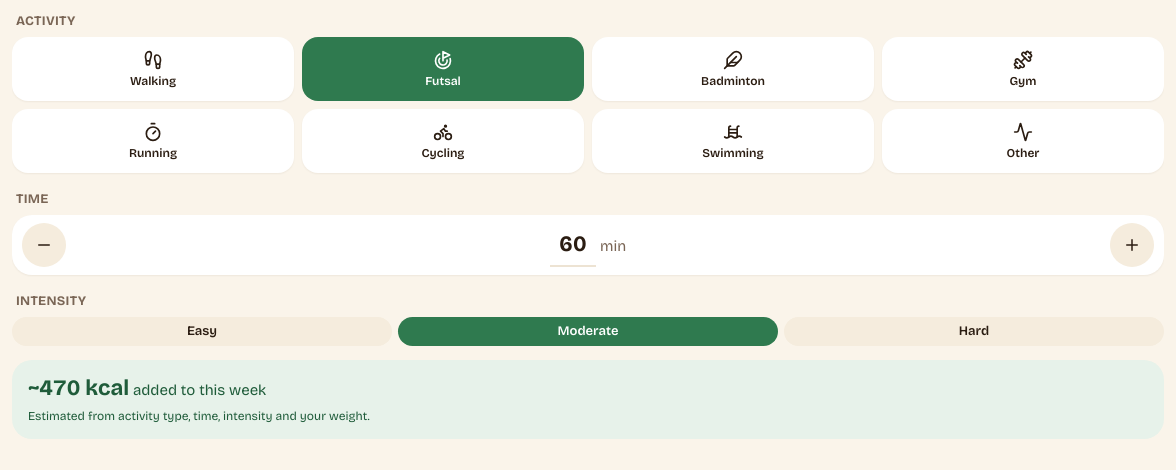
Test case: WorkoutForm (C51) › shows the time message after leaving the field, not while typing
The image size is (1176, 470).
Replace the text in the field named "Time in minutes" with "2" at (573, 245), box x1=550 y1=223 x2=596 y2=267
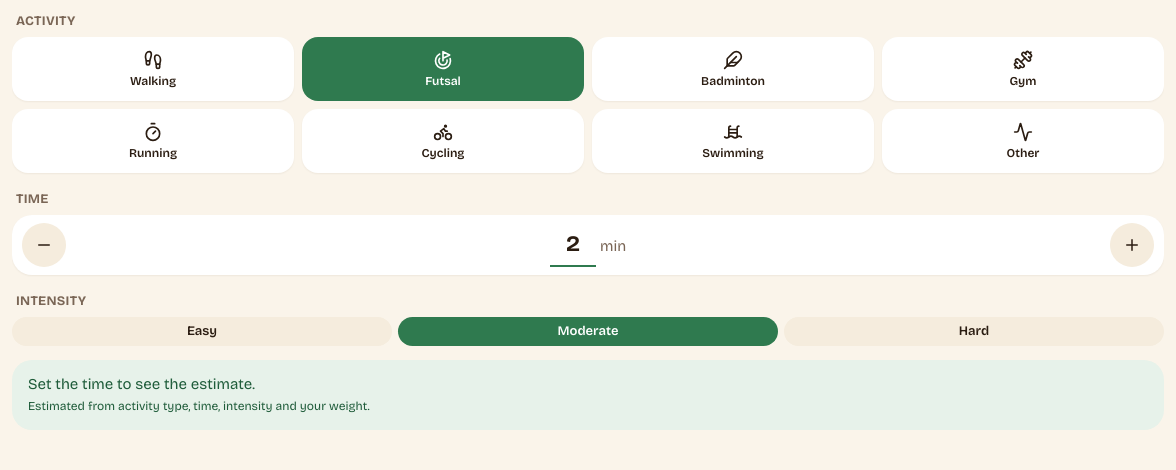
Expected: the text "At least 5 minutes." is not shown
Now the text "Set the time to see the estimate." is shown, box x1=28 y1=375 x2=255 y2=393
Leave the field named "Time in minutes", box x1=550 y1=223 x2=596 y2=267
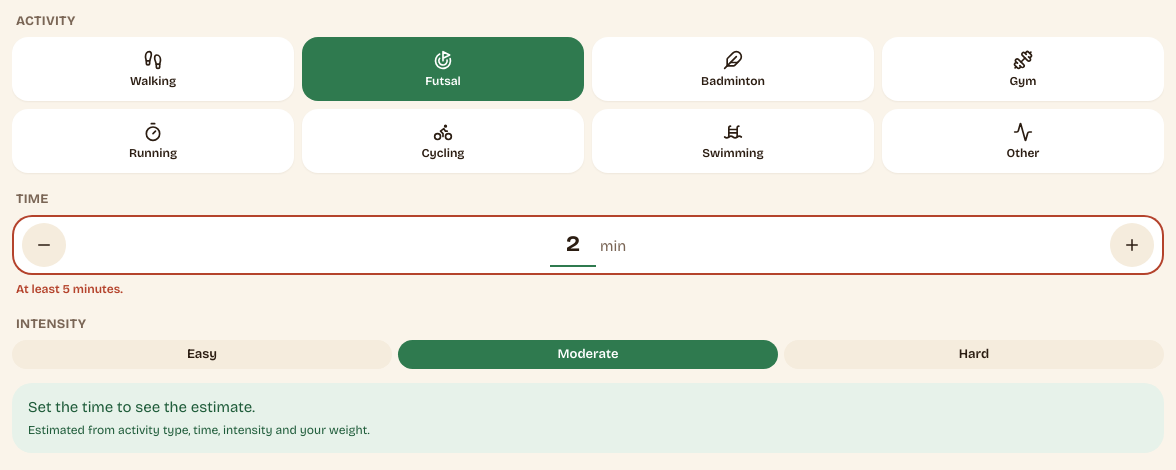
Now the text "At least 5 minutes." is shown, box x1=16 y1=282 x2=123 y2=296
Type "0" into the field named "Time in minutes" at (573, 245), box x1=550 y1=223 x2=596 y2=267
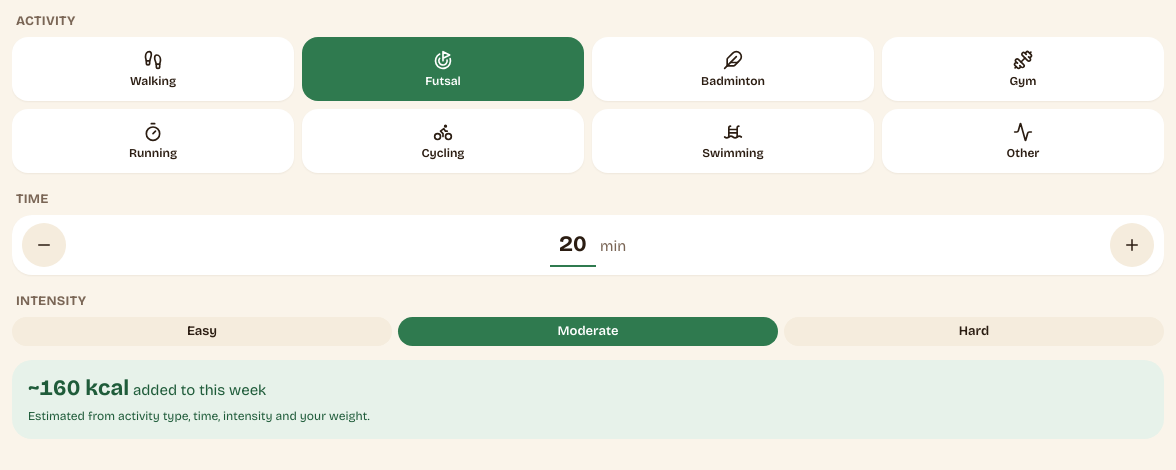
Now the text "At least 5 minutes." is gone
Now the element showing "~160 kcal added to this week" is shown, box x1=28 y1=375 x2=266 y2=401
